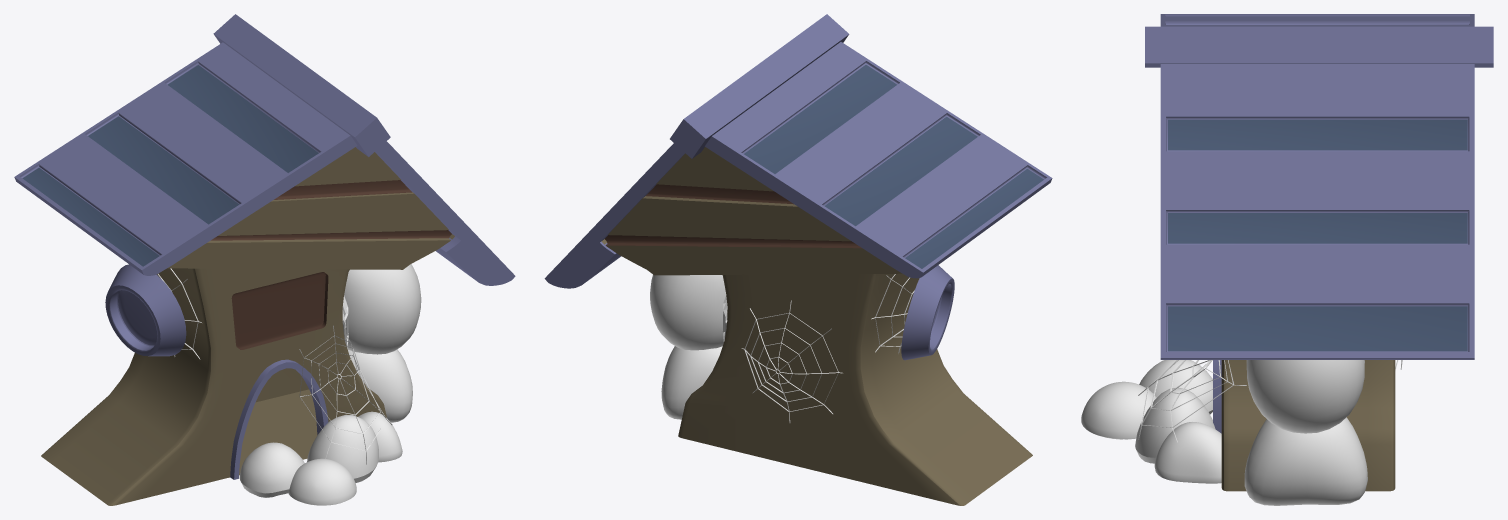
The model's file is Spider_House.fbx.
The picture shows the model from 3 angles, left to right: view 1: azimuth 30°, elevation 25°; view 2: azimuth 150°, elevation 25°; view 3: azimuth 270°, elevation 25°; orthographic projection. The views are drawn at different scales.
Parts seen in each view (by area): view 1: Cube; view 2: Cube; view 3: Cube.
Part boxes in pixels (bbox=[...]): Cube: bbox=[14, 14, 515, 505]; Cube: bbox=[544, 14, 1052, 505]; Cube: bbox=[1081, 14, 1493, 505].
Bounding box in the file's own units: 209 × 189 × 159.
